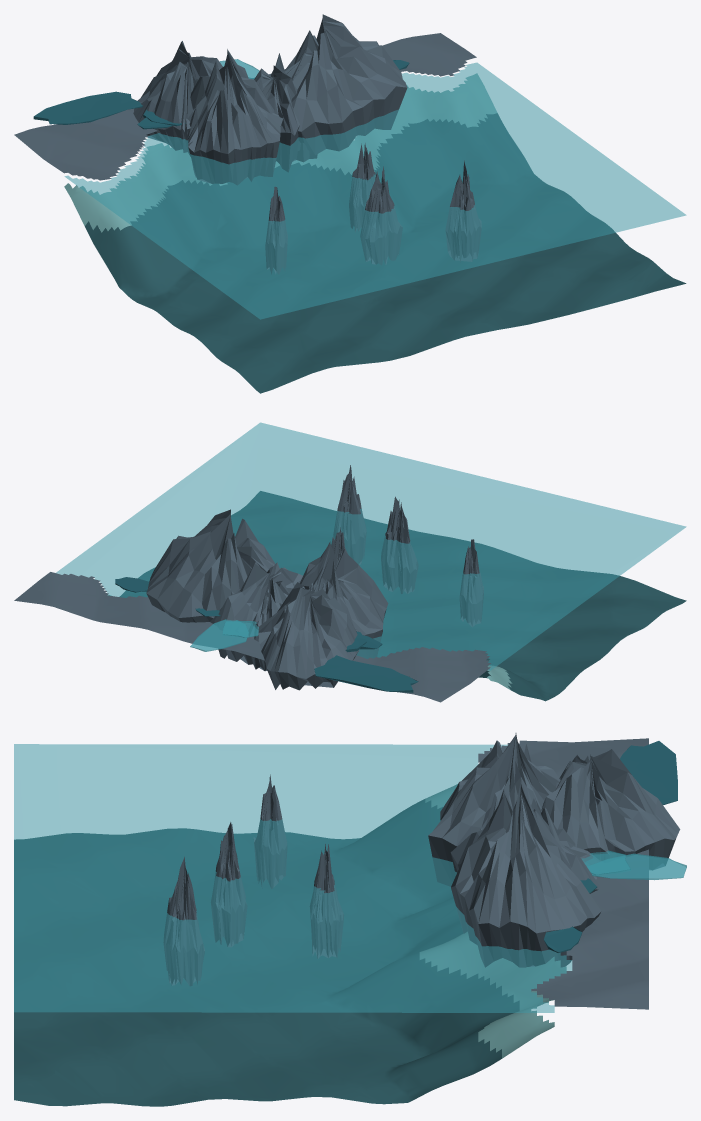
The model's file is water_tile_07.glb.
The picture shows the model from 3 angles, top to bottom: view 1: azimuth 30°, elevation 25°; view 2: azimuth 150°, elevation 25°; view 3: azimuth 270°, elevation 25°; orthographic projection. The views are drawn at different scales.
Parts seen in each view (by area): view 1: submerged mineral riverbed.007, glacial water surface 07, angular fractured shoreline ledge.079, visible shallow mineral shelves.007, angular fractured shoreline ledge.077, single continuous dark slate shoreline.007, angular fractured shoreline ledge.076, underwater worn boulder.028, angular fractured shoreline ledge.078, underwater worn boulder.027, erosion water finger above land.099, underwater worn boulder.025 (+1 smaller); view 2: glacial water surface 07, submerged mineral riverbed.007, single continuous dark slate shoreline.007, angular fractured shoreline ledge.079, angular fractured shoreline ledge.076, angular fractured shoreline ledge.077, angular fractured shoreline ledge.078, underwater worn boulder.028, erosion water finger above land.099, underwater worn boulder.027, underwater worn boulder.025, isolated flooded rock depression.038 (+1 smaller); view 3: glacial water surface 07, submerged mineral riverbed.007, angular fractured shoreline ledge.079, single continuous dark slate shoreline.007, angular fractured shoreline ledge.076, angular fractured shoreline ledge.077, visible shallow mineral shelves.007, underwater worn boulder.027, underwater worn boulder.028, underwater worn boulder.026, underwater worn boulder.025, erosion water finger above land.099 (+4 smaller).
Part boxes in pixels (<box>): submerged mineral riverbed.007: <box>85,113,686,393</box>; glacial water surface 07: <box>64,62,686,319</box>; angular fractured shoreline ledge.079: <box>267,14,407,154</box>; visible shallow mineral shelves.007: <box>64,73,497,232</box>; angular fractured shoreline ledge.077: <box>187,49,283,185</box>; single continuous dark slate shoreline.007: <box>14,33,476,180</box>; angular fractured shoreline ledge.076: <box>133,41,222,153</box>; underwater worn boulder.028: <box>360,166,402,265</box>; angular fractured shoreline ledge.078: <box>254,53,317,172</box>; underwater worn boulder.027: <box>445,160,481,262</box>; erosion water finger above land.099: <box>33,91,142,124</box>; underwater worn boulder.025: <box>265,186,287,274</box>; glacial water surface 07: <box>56,422,686,670</box>; submerged mineral riverbed.007: <box>119,491,686,701</box>; single continuous dark slate shoreline.007: <box>14,572,490,702</box>; angular fractured shoreline ledge.079: <box>146,509,280,622</box>; angular fractured shoreline ledge.076: <box>258,582,358,690</box>; angular fractured shoreline ledge.077: <box>299,541,388,658</box>; angular fractured shoreline ledge.078: <box>210,561,302,671</box>; underwater worn boulder.028: <box>381,496,418,593</box>; erosion water finger above land.099: <box>314,655,418,692</box>; underwater worn boulder.027: <box>333,465,366,564</box>; underwater worn boulder.025: <box>459,539,483,626</box>; isolated flooded rock depression.038: <box>190,619,248,651</box>; glacial water surface 07: <box>14,744,572,1012</box>; submerged mineral riverbed.007: <box>14,799,519,1106</box>; angular fractured shoreline ledge.079: <box>451,782,601,967</box>; single continuous dark slate shoreline.007: <box>478,738,648,1009</box>; angular fractured shoreline ledge.076: <box>541,749,680,869</box>; angular fractured shoreline ledge.077: <box>428,733,560,886</box>; visible shallow mineral shelves.007: <box>419,784,566,1058</box>; underwater worn boulder.027: <box>163,856,204,986</box>; underwater worn boulder.028: <box>211,822,247,947</box>; underwater worn boulder.026: <box>309,844,344,958</box>; underwater worn boulder.025: <box>253,774,287,888</box>; erosion water finger above land.099: <box>620,741,677,805</box>.
Size of the model in its own units: 1 by 0.3857 by 1.06.
